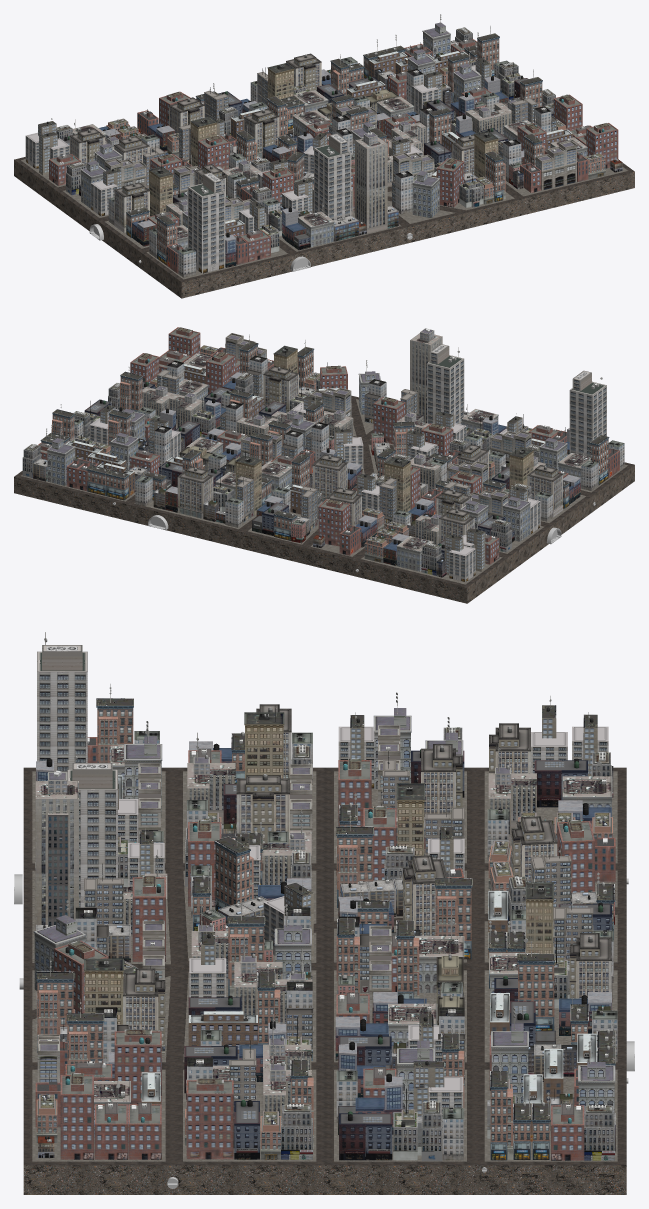
File: NYC_demo.FBX
3 views of the same model, one above another, from view 1: azimuth 30°, elevation 25°; view 2: azimuth 150°, elevation 25°; view 3: azimuth 270°, elevation 25° (orthographic). The views are drawn at different scales.
Parts seen in each view (by area): view 1: ground, NY_set3_064, NY_set3_086, NY_set3_029, NY_set3_111, NY_set3_120, NY_set1_076, NY_set1_020, NY_set2_090, NY_set2_037, NY_set1_107, NY_set3_016 (+69 smaller); view 2: ground, NY_set3_064, NY_set3_029, NY_set3_086, NY_set1_071, NY_set1_076, NY_set3_010, NY_set1_031, NY_set2_070, NY_set1_020, NY_set2_044, NY_set1_067 (+87 smaller); view 3: ground, NY_set3_086, NY_set3_064, NY_set3_029, NY_set2_091, NY_set1_099, NY_set2_037, NY_set1_090, NY_set4_033, NY_set1_031, NY_set2_040, NY_set1_076 (+110 smaller).
Part boxes in pixels (left/top/right/bottom): ground: left=14, top=78, right=634, bottom=298; NY_set3_064: left=188, top=172, right=225, bottom=273; NY_set3_086: left=355, top=132, right=387, bottom=233; NY_set3_029: left=314, top=133, right=351, bottom=219; NY_set3_111: left=535, top=140, right=576, bottom=190; NY_set3_120: left=412, top=160, right=439, bottom=218; NY_set1_076: left=244, top=108, right=279, bottom=157; NY_set1_020: left=114, top=182, right=149, bottom=232; NY_set2_090: left=436, top=158, right=464, bottom=207; NY_set2_037: left=586, top=123, right=618, bottom=168; NY_set1_107: left=149, top=162, right=173, bottom=216; NY_set3_016: left=90, top=164, right=121, bottom=216; ground: left=14, top=395, right=634, bottom=603; NY_set3_064: left=569, top=370, right=606, bottom=457; NY_set3_029: left=427, top=344, right=464, bottom=424; NY_set3_086: left=410, top=328, right=442, bottom=422; NY_set1_071: left=177, top=466, right=213, bottom=518; NY_set1_076: left=312, top=454, right=347, bottom=502; NY_set3_010: left=444, top=531, right=475, bottom=581; NY_set1_031: left=263, top=366, right=298, bottom=413; NY_set2_070: left=318, top=499, right=350, bottom=546; NY_set1_020: left=527, top=465, right=562, bottom=517; NY_set2_044: left=373, top=397, right=405, bottom=444; NY_set1_067: left=384, top=457, right=410, bottom=511; ground: left=23, top=767, right=626, bottom=1194; NY_set3_086: left=35, top=770, right=78, bottom=930; NY_set3_064: left=37, top=632, right=87, bottom=772; NY_set3_029: left=67, top=750, right=117, bottom=907; NY_set2_091: left=186, top=1078, right=233, bottom=1159; NY_set1_099: left=236, top=774, right=289, bottom=861; NY_set2_037: left=60, top=1073, right=93, bottom=1159; NY_set1_090: left=421, top=744, right=462, bottom=816; NY_set4_033: left=339, top=1111, right=392, bottom=1160; NY_set1_031: left=123, top=968, right=165, bottom=1053; NY_set2_040: left=114, top=1029, right=161, bottom=1104; NY_set1_076: left=403, top=855, right=447, bottom=935.
Size of the model in its own units: 469 by 108 by 306.
